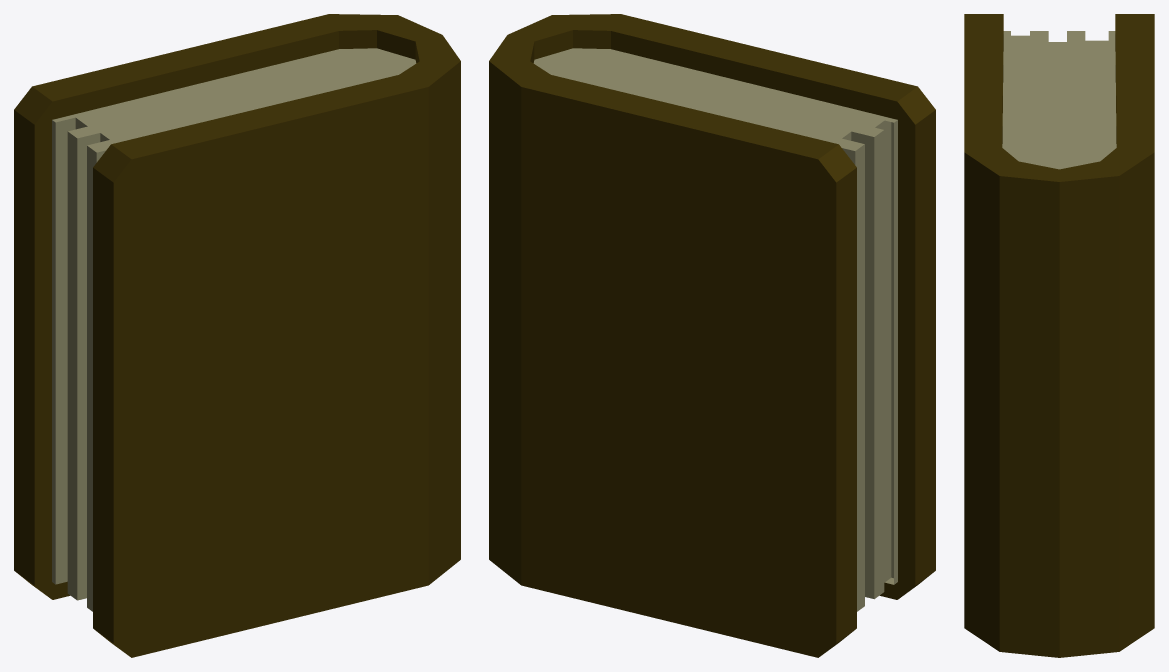
File: book1.glb
3 renders of one model, left to right at view 1: azimuth 30°, elevation 25°; view 2: azimuth 150°, elevation 25°; view 3: azimuth 270°, elevation 25°, orthographic. The views are drawn at different scales.
Parts seen in each view (by area): view 1: cover, pages; view 2: cover, pages; view 3: cover, pages.
Boxes of the visible parts, bbox=[...] form: cover: bbox=[14, 14, 460, 657]; pages: bbox=[52, 48, 416, 611]; cover: bbox=[489, 14, 935, 657]; pages: bbox=[533, 48, 897, 611]; cover: bbox=[964, 14, 1154, 657]; pages: bbox=[1002, 31, 1116, 169].
Size of the model in its own units: 1.59 by 2 by 0.7242.
